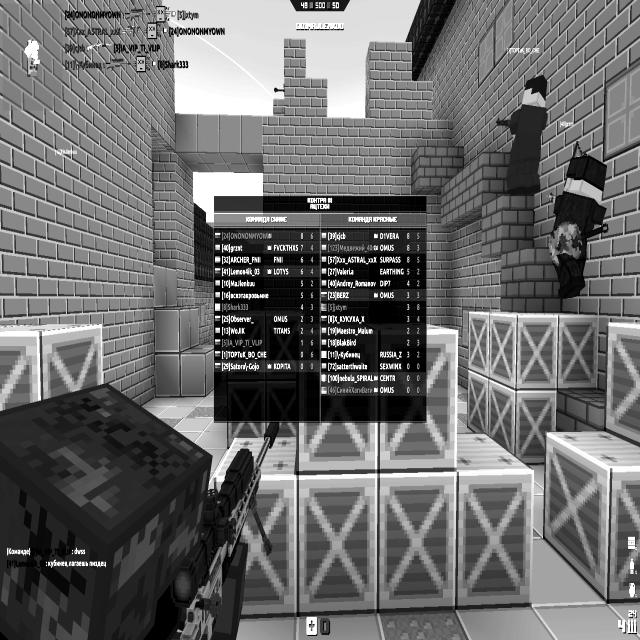Head: (0, 384, 212, 640), (566, 152, 605, 198), (524, 77, 547, 105)
Player: (546, 141, 607, 297), (497, 73, 548, 196)
